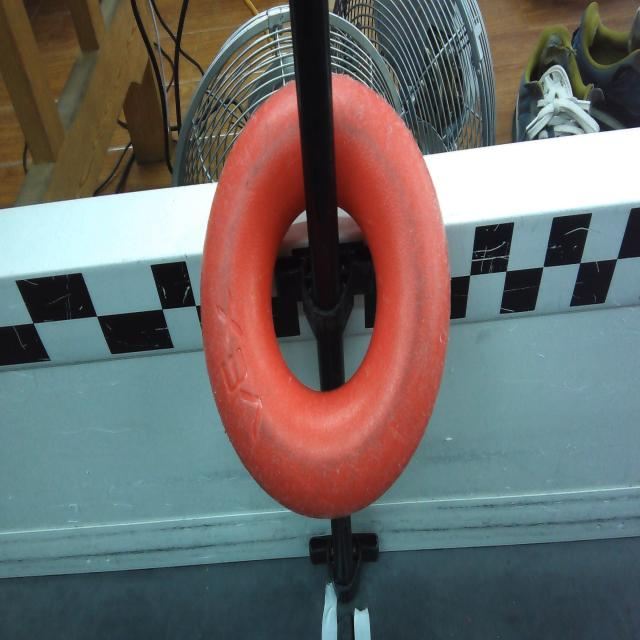Red-Ring: (200, 71, 453, 513)
